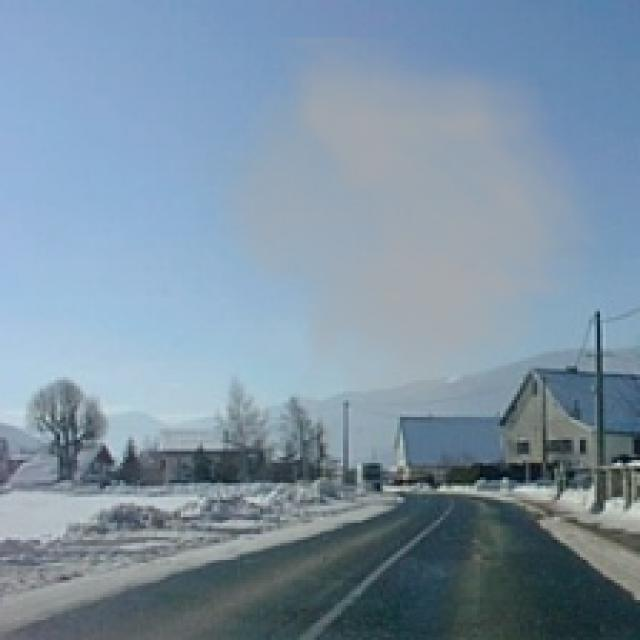Smoke: (195, 37, 620, 449)
